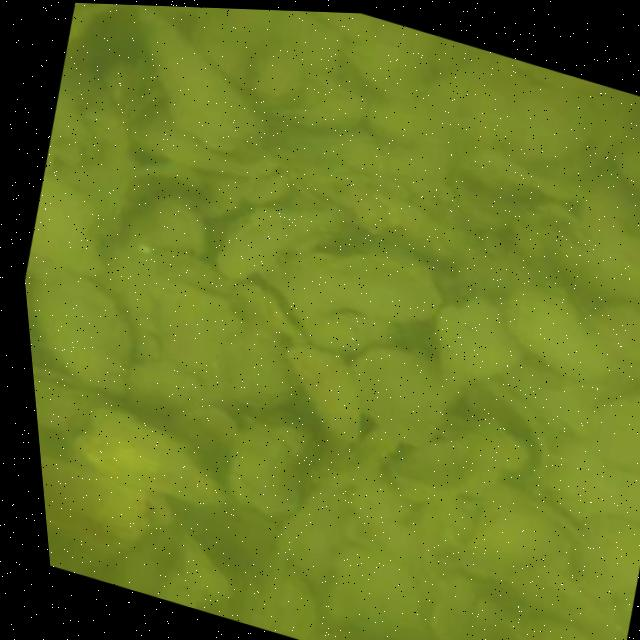Oyster-Indeterminate: (138, 11, 265, 151), (75, 411, 236, 505), (124, 102, 283, 175), (37, 272, 131, 392), (274, 254, 433, 321), (506, 284, 608, 377), (354, 346, 445, 444), (219, 208, 343, 275), (459, 502, 565, 580), (230, 425, 312, 520), (459, 148, 589, 205), (325, 549, 416, 630), (547, 432, 621, 523), (437, 299, 516, 382), (288, 352, 359, 442), (261, 78, 363, 139), (553, 245, 640, 309), (575, 521, 639, 602), (226, 335, 294, 409), (132, 193, 206, 258), (166, 532, 235, 599), (66, 4, 139, 62), (130, 361, 205, 415), (178, 406, 230, 464), (431, 601, 477, 640)
Oyster-Open: (463, 390, 549, 476)
